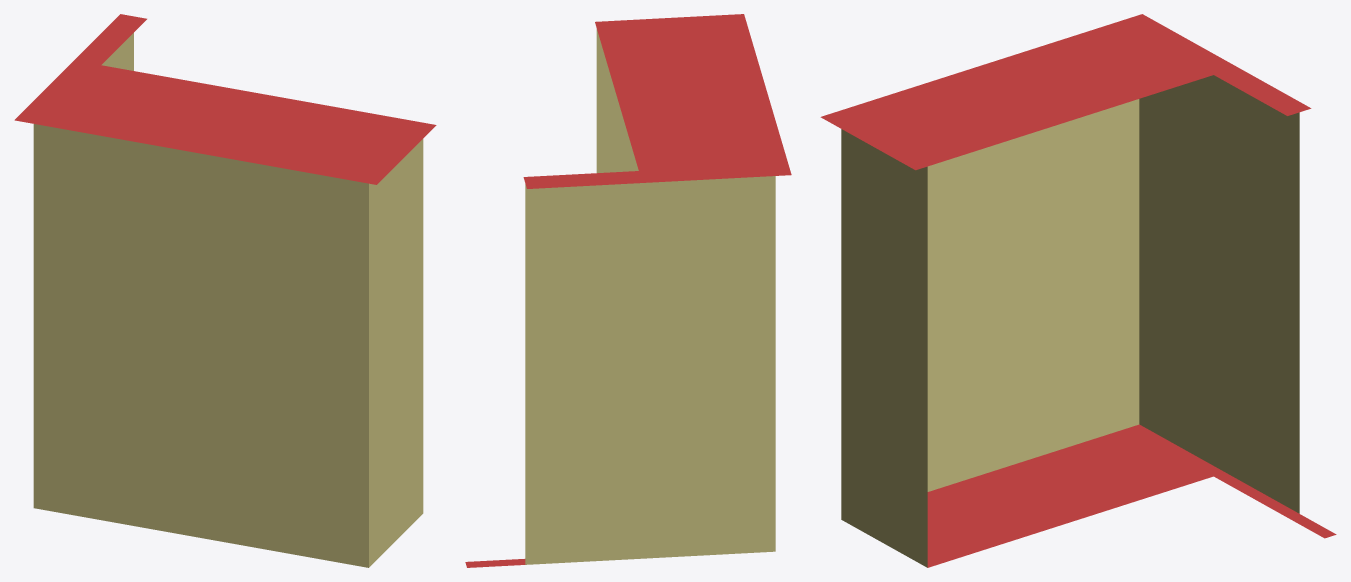
The picture shows the model from 3 angles, left to right: view 1: azimuth 30°, elevation 25°; view 2: azimuth 150°, elevation 25°; view 3: azimuth 270°, elevation 25°; orthographic projection. The views are drawn at different scales.
Size of the model in its own units: 6.11 by 8.53 by 7.32.
